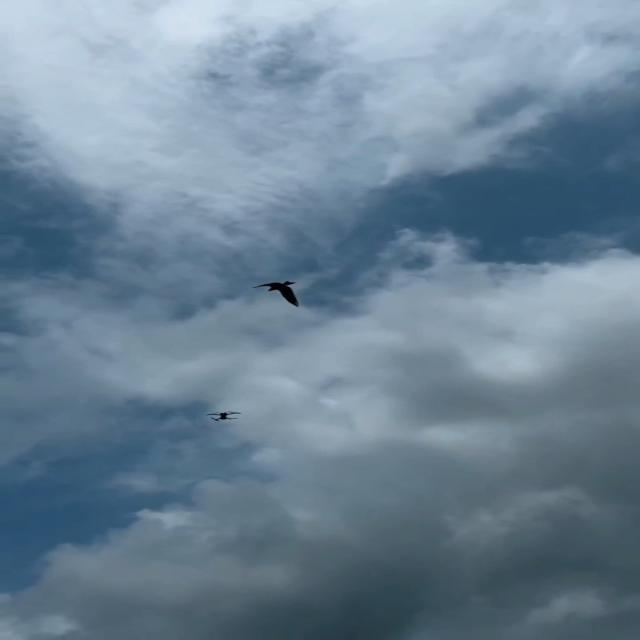bird: (252, 280, 298, 307)
drone: (204, 411, 241, 422)
